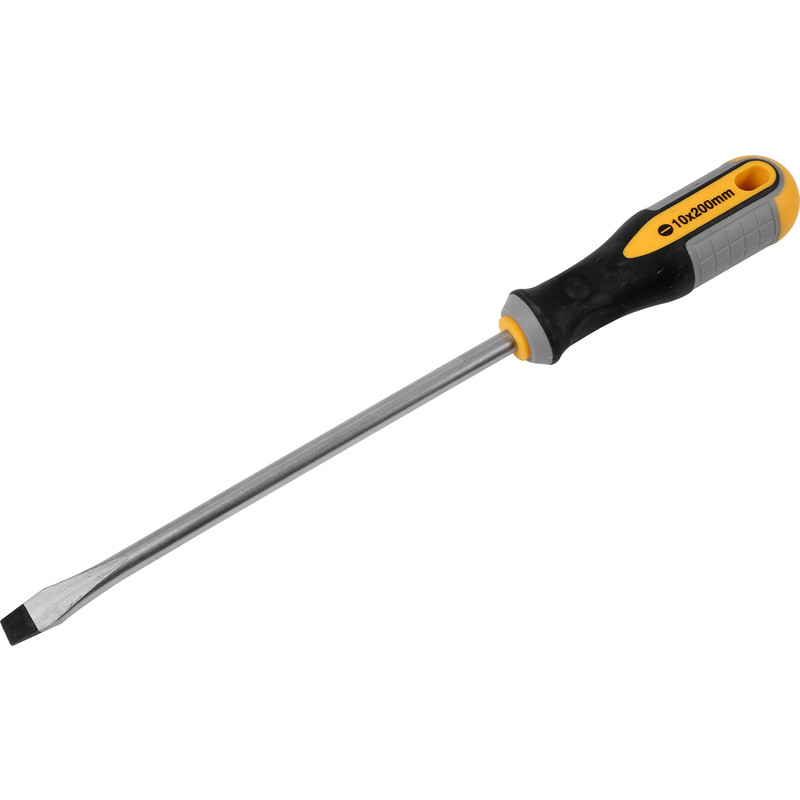screwdriver: (1, 151, 800, 648)
